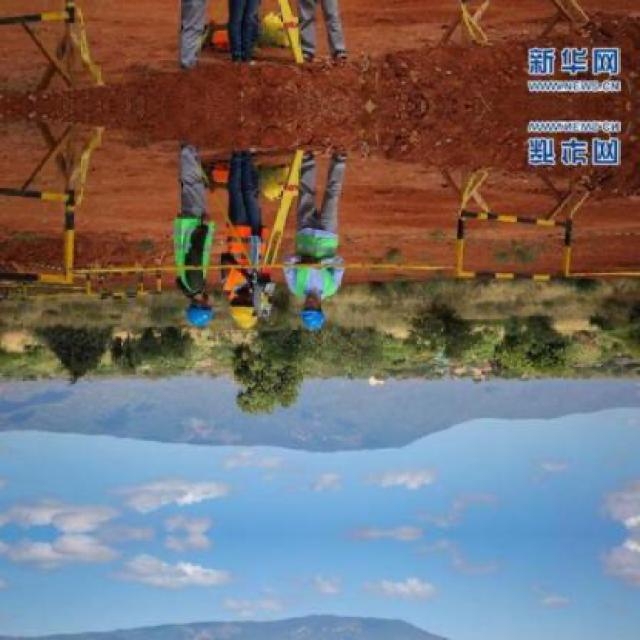con casco: (293, 279, 343, 336), (225, 279, 264, 336), (180, 289, 215, 342)
